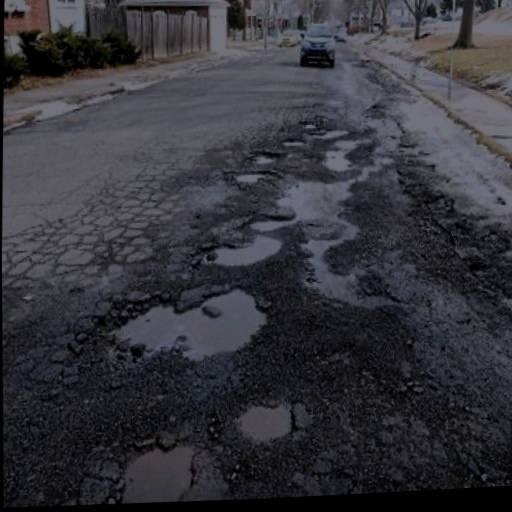pothole: (106, 279, 272, 366), (118, 431, 203, 504), (199, 228, 286, 267), (237, 396, 297, 441), (227, 164, 273, 185), (250, 212, 294, 228), (250, 146, 281, 165), (281, 135, 308, 147)
